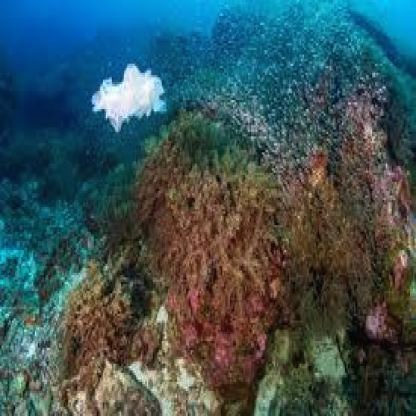pbag: (88, 54, 168, 138)
